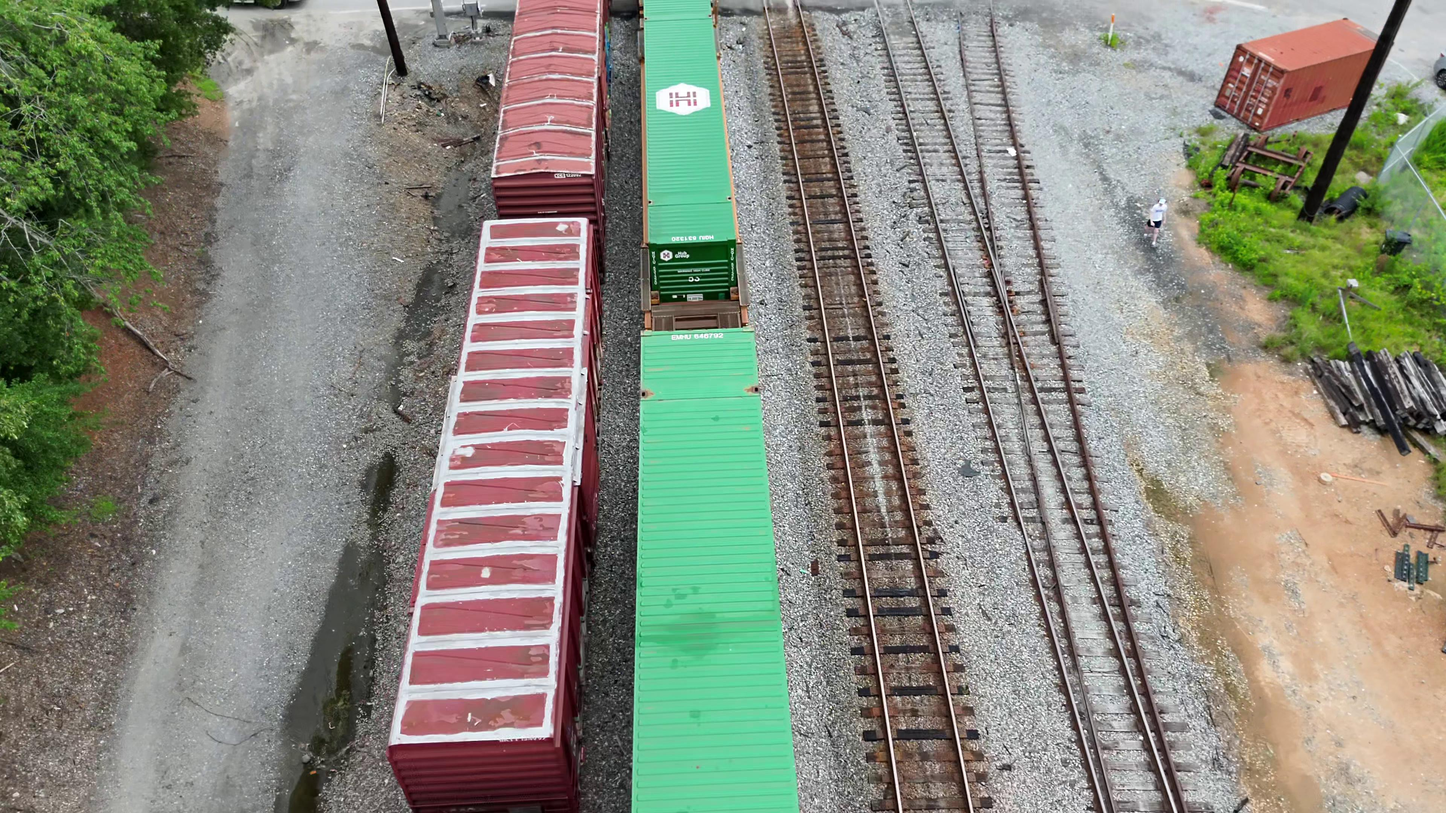human: (1143, 197, 1168, 249)
